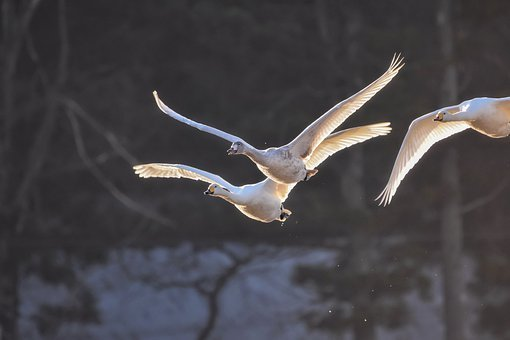bird: (133, 66, 510, 211)
